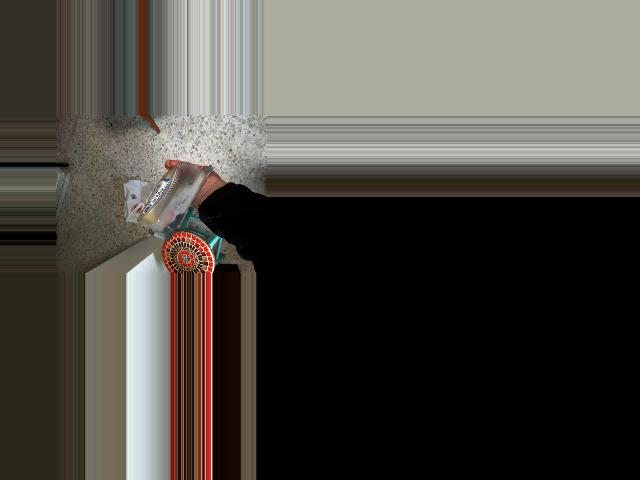cheese: (115, 154, 218, 263)
